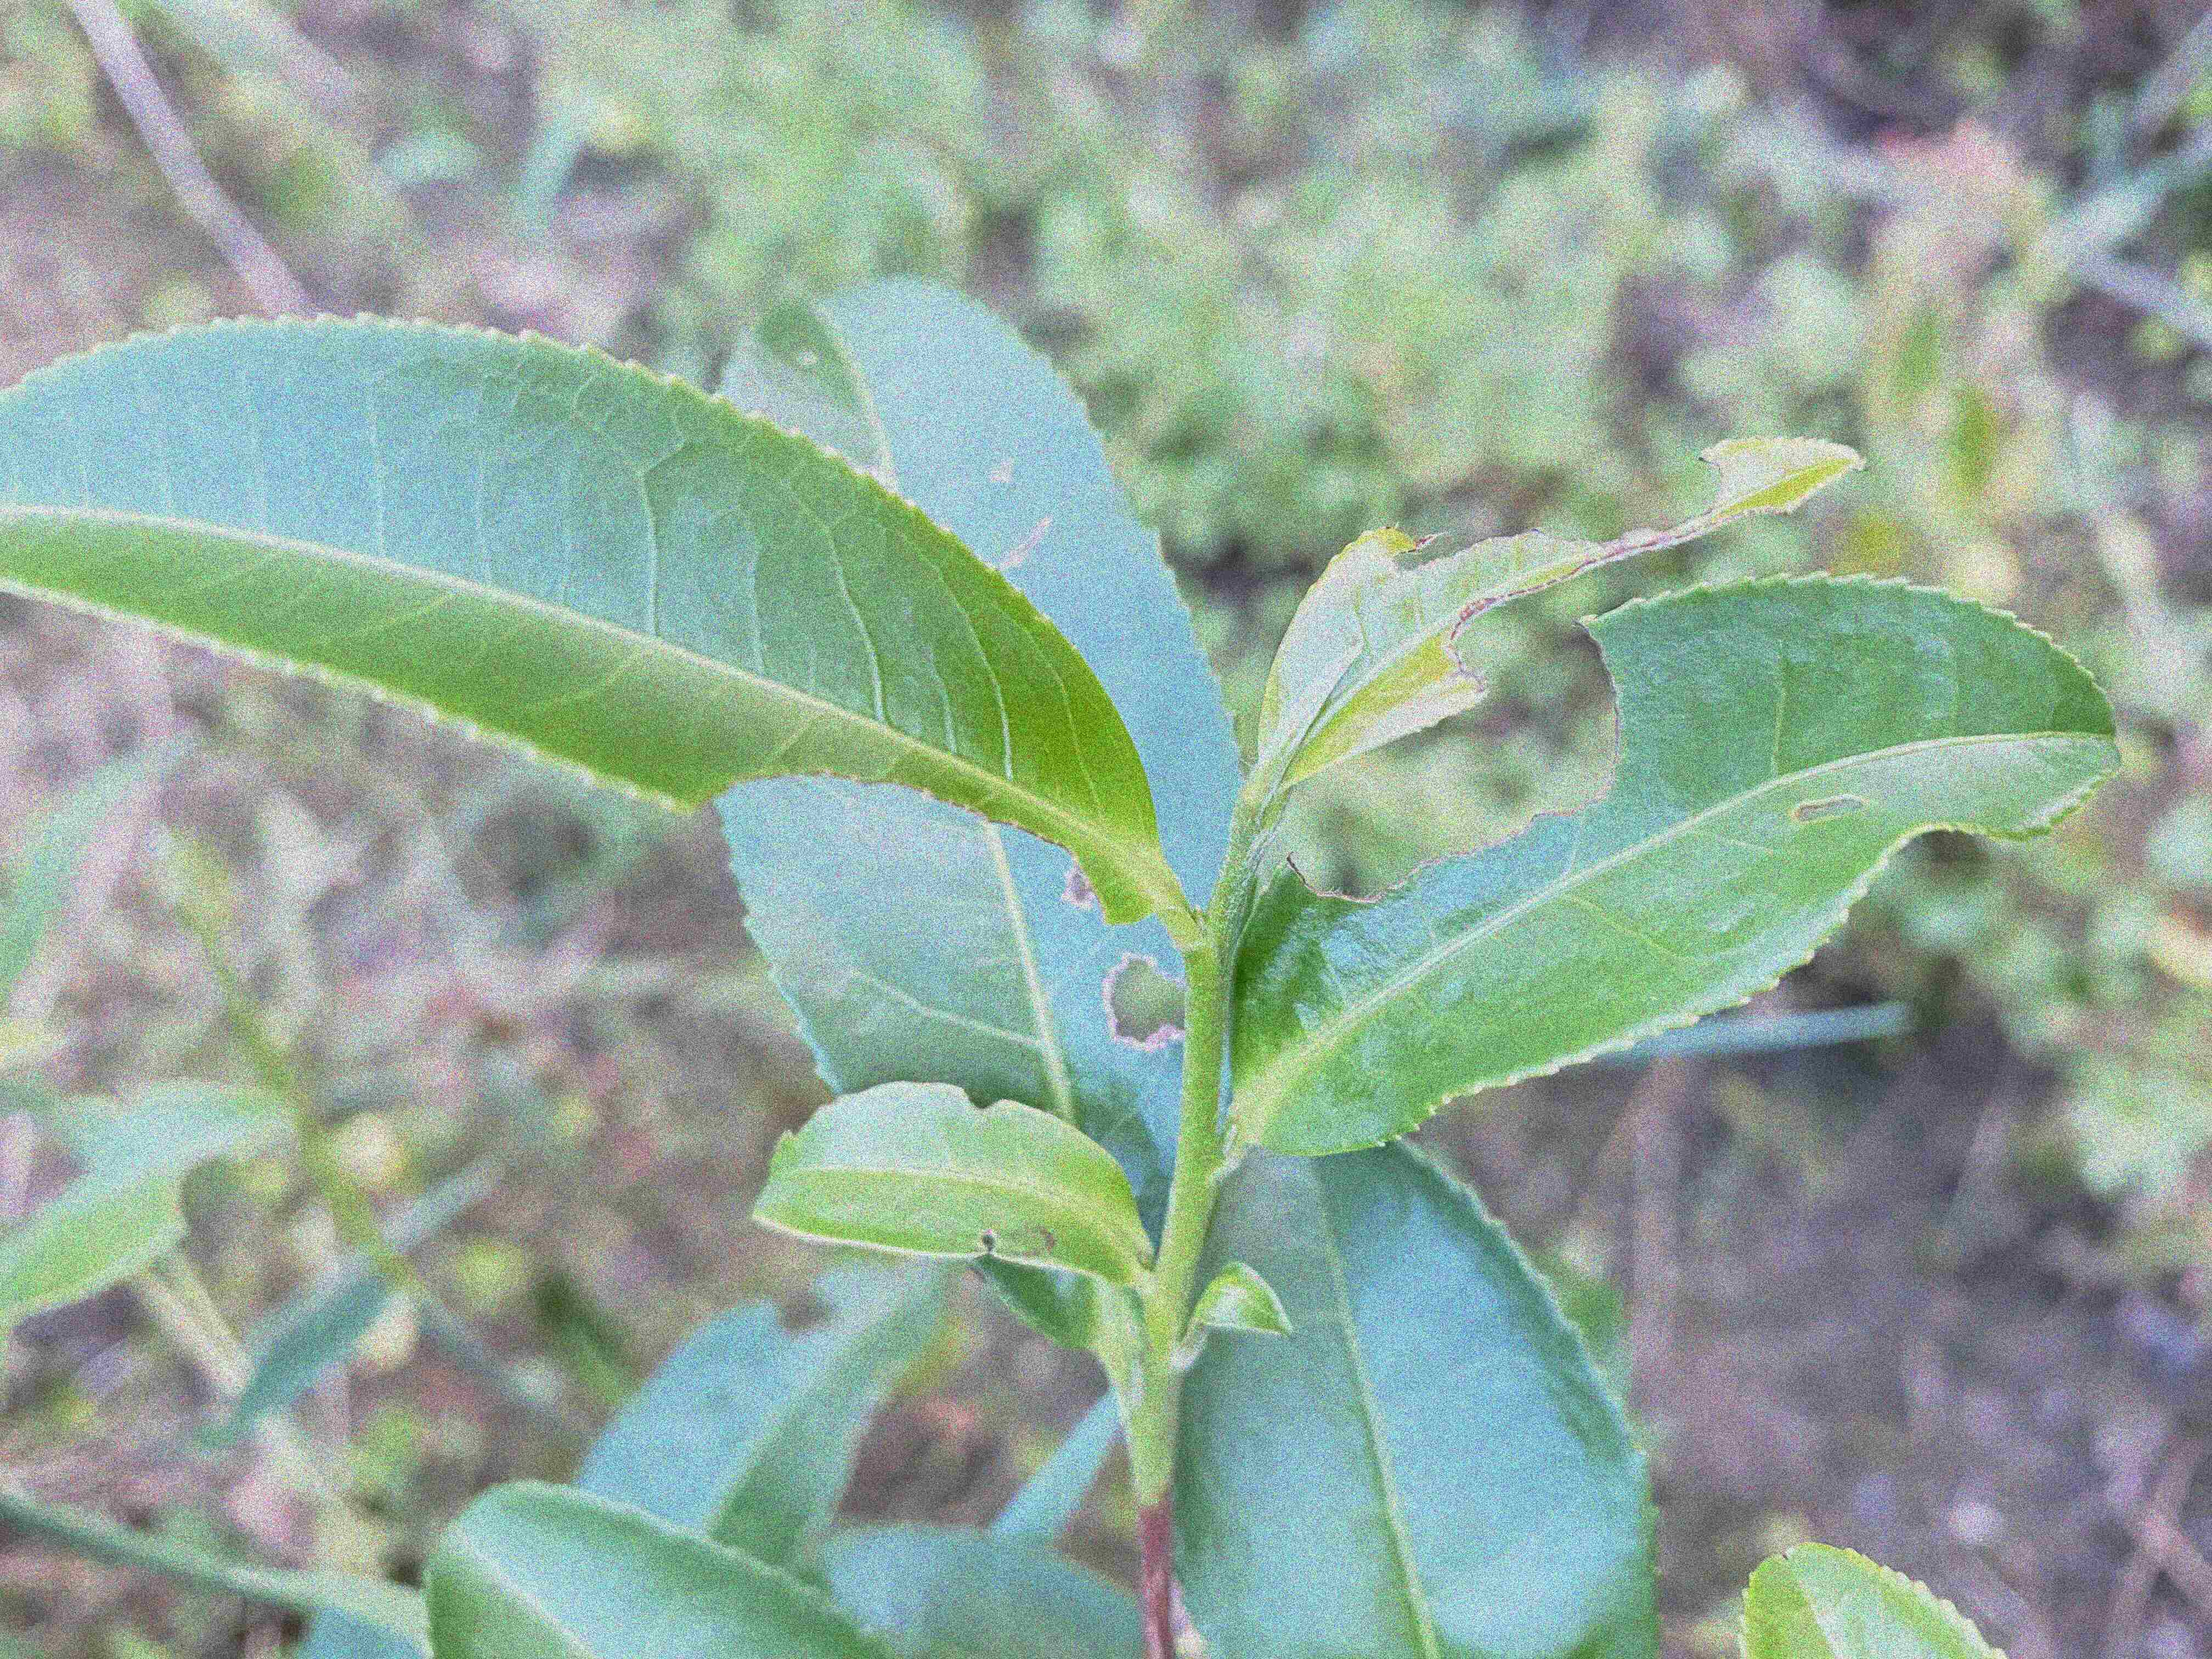chihuo_high: (1231, 573, 2127, 1154), (1254, 436, 1865, 789), (751, 1079, 1155, 1284)
chihuo_low: (3, 308, 1167, 925)
